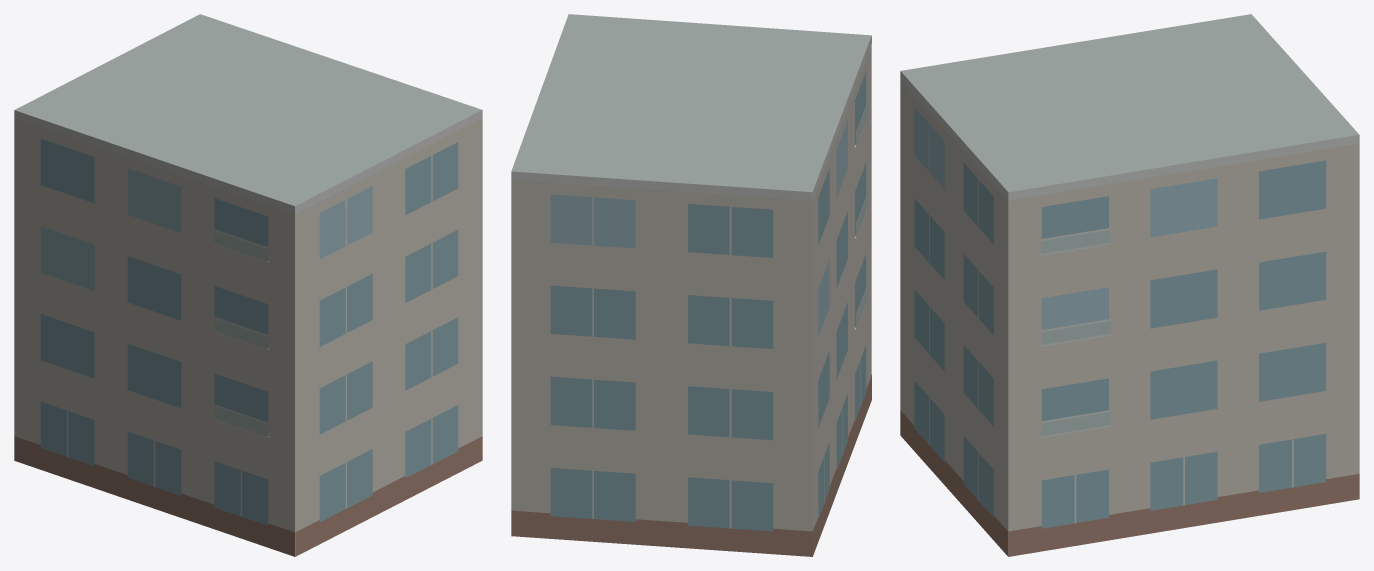
File: survey-upis-32963458.glb
3 views of the same model, side by side, from view 1: azimuth 30°, elevation 25°; view 2: azimuth 150°, elevation 25°; view 3: azimuth 270°, elevation 25° (orthographic). The views are drawn at different scales.
Parts seen in each view (by area): view 1: survey-upis-32963458.tmp; view 2: survey-upis-32963458.tmp; view 3: survey-upis-32963458.tmp.
Boxes of the visible parts, <box> form: survey-upis-32963458.tmp: <box>14,14,482,556</box>; survey-upis-32963458.tmp: <box>511,14,871,556</box>; survey-upis-32963458.tmp: <box>900,14,1359,556</box>.
Bounding box in the file's own units: 11.03 × 10.5 × 11.99.
